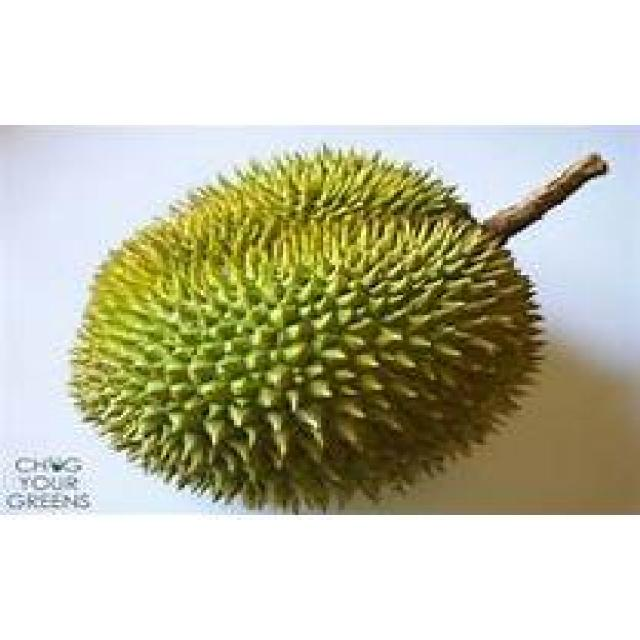Fruit: (3, 112, 388, 510), (264, 107, 640, 507)
